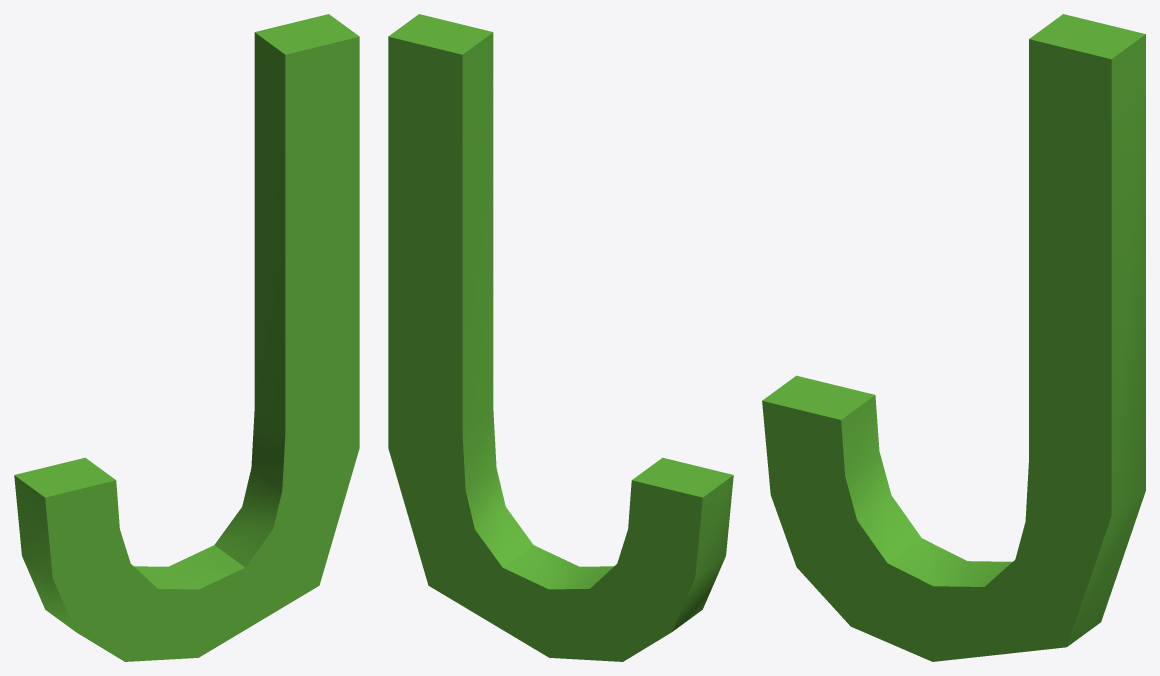
File: letras.obj
The picture shows the model from 3 angles, left to right: view 1: azimuth 30°, elevation 25°; view 2: azimuth 150°, elevation 25°; view 3: azimuth 330°, elevation 25°; orthographic projection. The views are drawn at different scales.
Parts seen in each view (by area): view 1: J; view 2: J; view 3: J.
Part boxes in pixels (x1,y1,x2,y2): J: [14, 14, 359, 661]; J: [388, 14, 733, 661]; J: [762, 14, 1145, 661].
Size of the model in its own units: 0.588 by 1.04 by 0.1.
